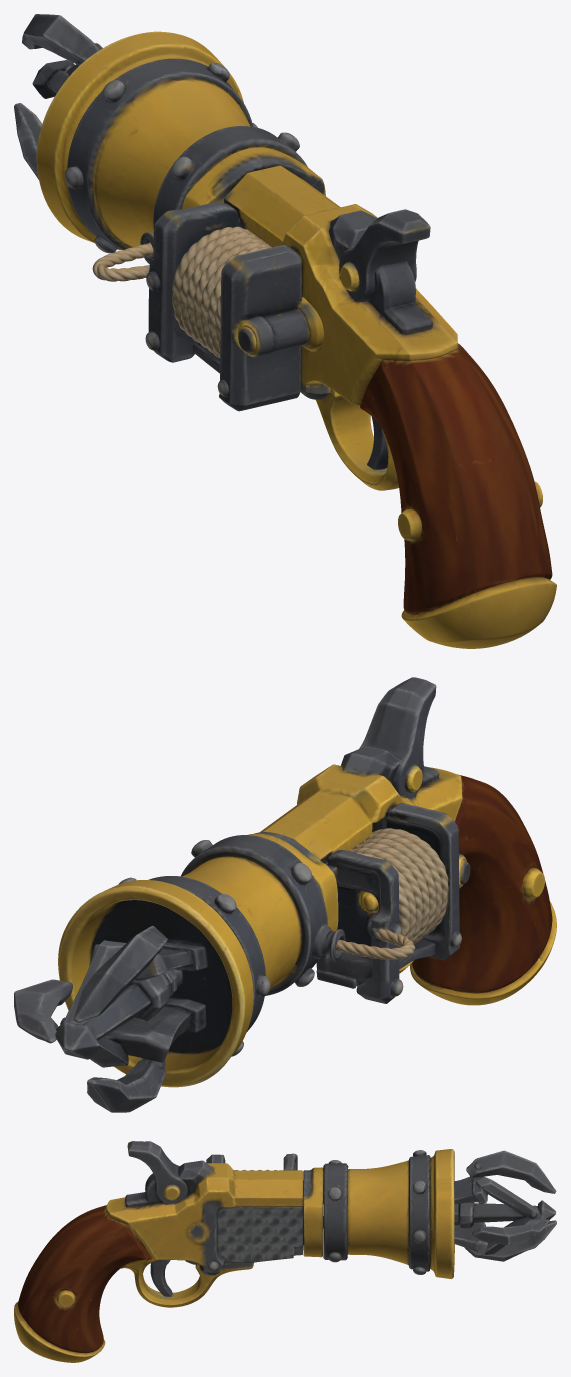
Rendered from grapple_body.glb.
3 views of the same model, one above another, from view 1: azimuth 30°, elevation 25°; view 2: azimuth 150°, elevation 25°; view 3: azimuth 270°, elevation 25° (orthographic). The views are drawn at different scales.
Parts seen in each view (by area): view 1: Mesh_0; view 2: Mesh_0; view 3: Mesh_0.
Part boxes in pixels (bbox=[...]): Mesh_0: bbox=[14, 14, 556, 648]; Mesh_0: bbox=[14, 677, 556, 1112]; Mesh_0: bbox=[14, 1141, 556, 1362].
Size of the model in its own units: 0.0838 by 0.1169 by 0.268.
1 material, 1 textured.
